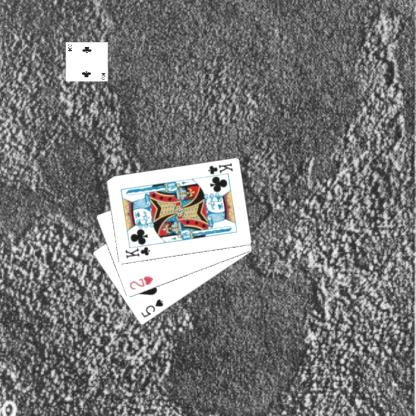2H: (127, 274, 154, 292)
5S: (138, 297, 164, 319)
KC: (122, 241, 153, 260), (203, 160, 234, 179)
